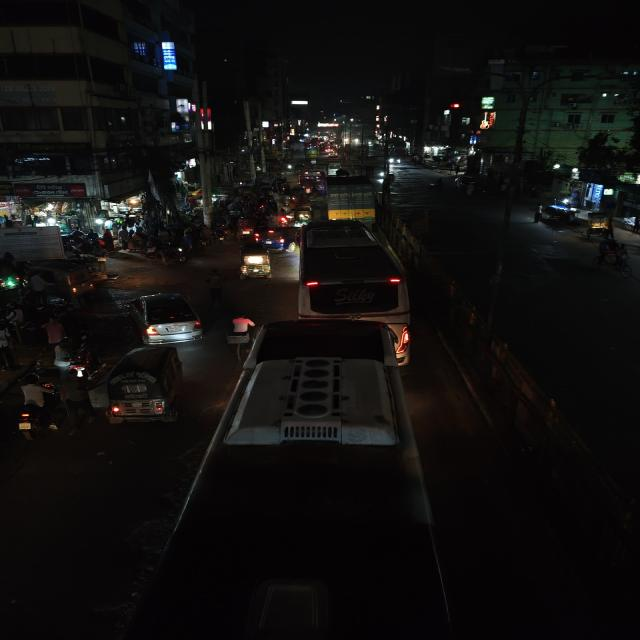bus: (170, 321, 438, 640), (295, 218, 410, 324), (298, 170, 324, 194)
car: (124, 290, 204, 344), (253, 225, 289, 251)
cng: (235, 570, 365, 640), (100, 344, 186, 428), (28, 258, 108, 298), (236, 242, 275, 282), (0, 251, 25, 291), (290, 204, 312, 226)
motorcycle: (11, 399, 52, 439)
pedestrian: (39, 316, 69, 360), (17, 377, 49, 407), (204, 268, 227, 305)
rickshaw: (592, 238, 632, 272)
truck: (324, 174, 379, 224)
